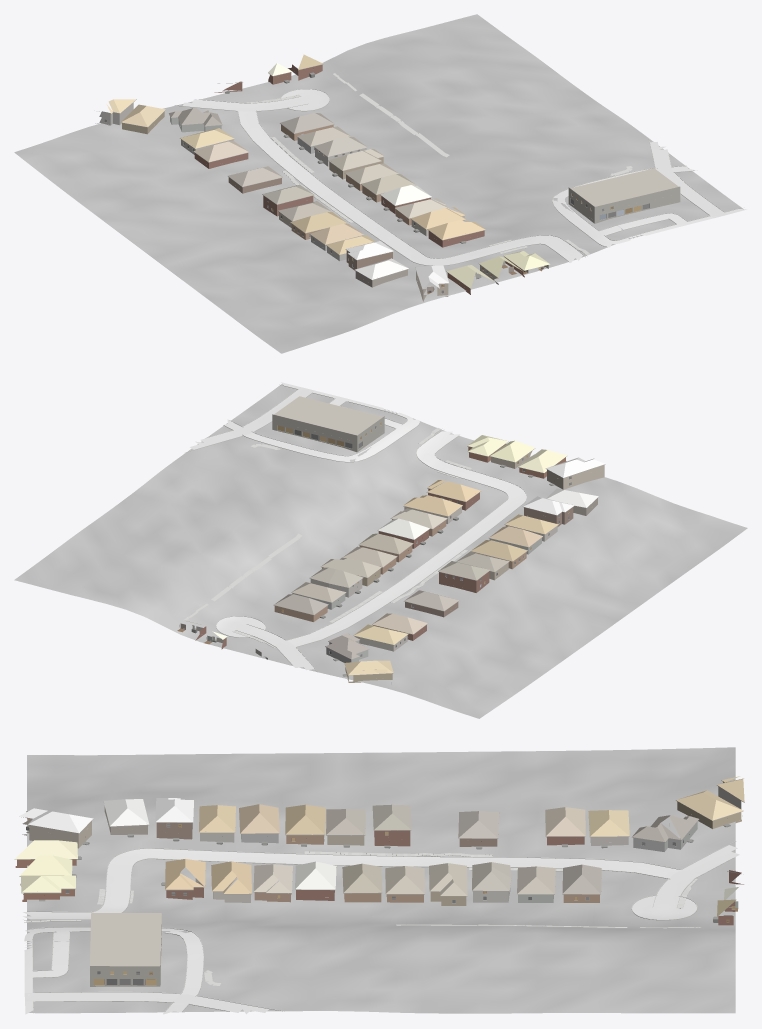
3 renders of one model, top to bottom at view 1: azimuth 30°, elevation 25°; view 2: azimuth 150°, elevation 25°; view 3: azimuth 270°, elevation 25°, orthographic. The views are drawn at different scales.
Visible parts, largest first — view 1: ground, roof, concrete, wall, roof_flat, curb, wall_com, detail, walk, asphalt, wall_stucco, wall_stone; view 2: ground, roof, concrete, wall, roof_flat, curb, detail, wall_com, wall_stucco, walk, asphalt, wall_stone; view 3: ground, roof, concrete, wall, roof_flat, curb, wall_stucco, asphalt, detail, walk, wall_stone, wall_com (+1 smaller).
Boxes of the visible parts, left/top/right/bottom form: ground: left=14, top=14, right=743, bottom=353; roof: left=106, top=54, right=549, bottom=289; concrete: left=183, top=89, right=746, bottom=265; wall: left=122, top=64, right=524, bottom=294; roof_flat: left=570, top=168, right=678, bottom=206; curb: left=174, top=89, right=741, bottom=265; wall_com: left=568, top=186, right=680, bottom=223; detail: left=99, top=64, right=649, bottom=295; walk: left=246, top=73, right=632, bottom=255; asphalt: left=650, top=142, right=727, bottom=218; wall_stucco: left=170, top=117, right=464, bottom=301; wall_stone: left=95, top=102, right=366, bottom=261; ground: left=14, top=384, right=747, bottom=718; roof: left=185, top=435, right=604, bottom=675; concrete: left=216, top=382, right=526, bottom=670; wall: left=195, top=443, right=597, bottom=682; roof_flat: left=274, top=396, right=382, bottom=435; curb: left=185, top=385, right=526, bottom=671; detail: left=179, top=425, right=605, bottom=685; wall_com: left=272, top=414, right=384, bottom=452; wall_stucco: left=292, top=465, right=604, bottom=662; walk: left=183, top=428, right=471, bottom=647; asphalt: left=190, top=387, right=314, bottom=449; wall_stone: left=310, top=525, right=557, bottom=651; ground: left=27, top=747, right=735, bottom=1013; roof: left=15, top=776, right=744, bottom=916; concrete: left=23, top=845, right=739, bottom=1014; wall: left=15, top=801, right=743, bottom=925; roof_flat: left=90, top=912, right=161, bottom=966; curb: left=23, top=841, right=736, bottom=1013; wall_stucco: left=22, top=819, right=697, bottom=902; asphalt: left=24, top=992, right=268, bottom=1014; detail: left=14, top=780, right=744, bottom=985; walk: left=26, top=851, right=700, bottom=985; wall_stone: left=200, top=782, right=741, bottom=902; wall_com: left=90, top=924, right=161, bottom=986.
Size of the model in its own units: 253 by 24.31 by 259.
